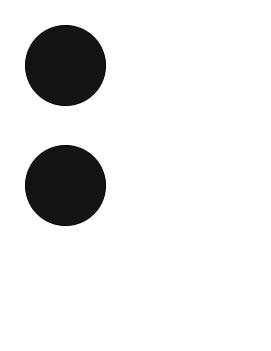B: (19, 19, 256, 338)
